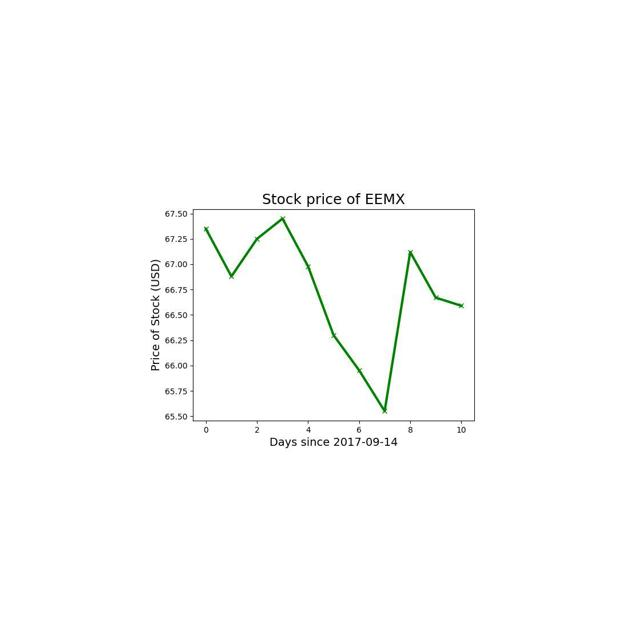Graph: (146, 176, 512, 451)
